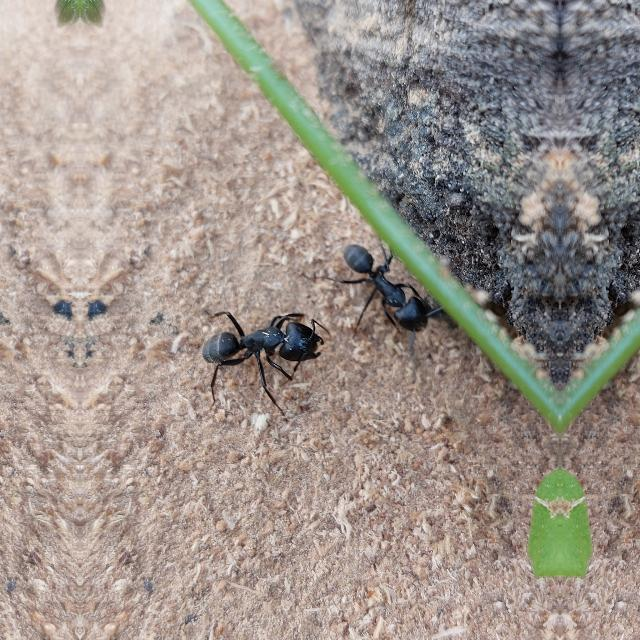Camponotus: (332, 233, 440, 351), (197, 293, 331, 385)
